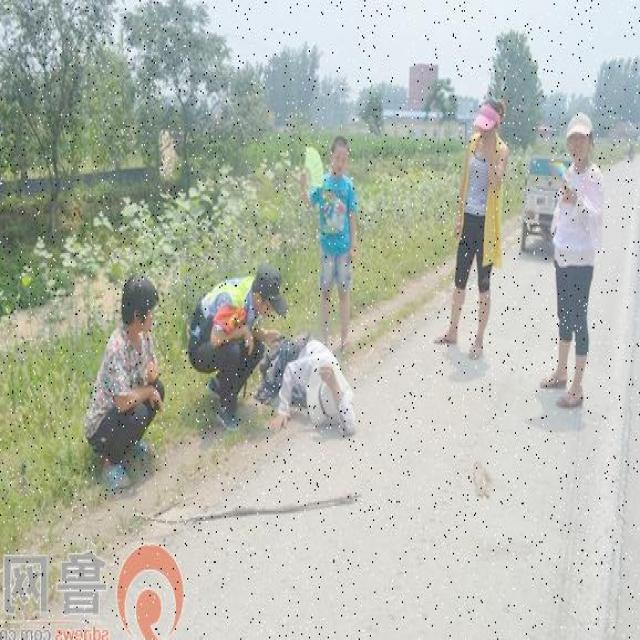fall: (264, 340, 368, 436)
